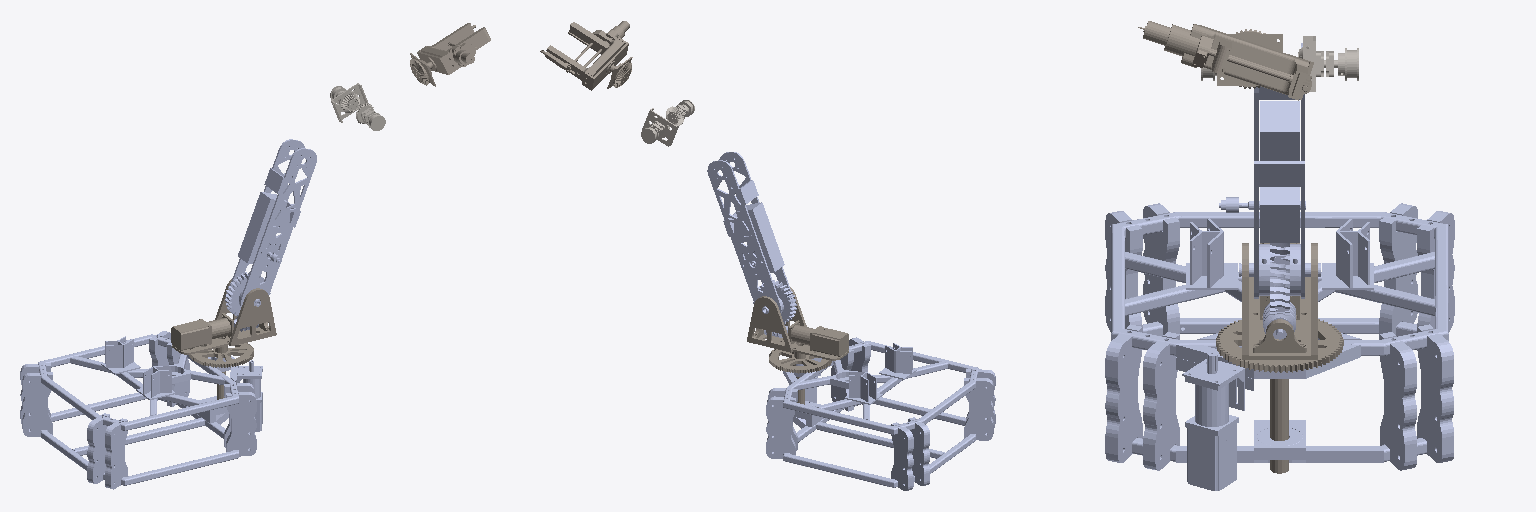
URDF robot description (ARMYPR6):
<?xml version="1.0" encoding="utf-8"?>
<!-- This URDF was automatically created by SolidWorks to URDF Exporter! Originally created by [author] ([email redacted]) 
     Commit Version: 1.6.0-4-g7f85cfe  Build Version: 1.6.7995.38578
     For more information, please see http://wiki.ros.org/sw_urdf_exporter -->
<robot
  name="ARMYPR6">
  <link
    name="base_link">
    <inertial>
      <origin
        xyz="0.0381708341809766 -0.00140666618573904 0.106286010737939"
        rpy="0 0 0" />
      <mass
        value="3.44766136170682" />
      <inertia
        ixx="0.013723684919501"
        ixy="-0.000589844407732805"
        ixz="-0.000265795178525529"
        iyy="0.0120078200354364"
        iyz="-0.00170526761308872"
        izz="0.0109946645922308" />
    </inertial>
    <visual>
      <origin
        xyz="0 0 0"
        rpy="0 0 0" />
      <geometry>
        <mesh
          filename="package://meshes/base_link.STL" />
      </geometry>
      <material
        name="">
        <color
          rgba="0.792156862745098 0.819607843137255 0.933333333333333 1" />
      </material>
    </visual>
    <collision>
      <origin
        xyz="0 0 0"
        rpy="0 0 0" />
      <geometry>
        <mesh
          filename="package://meshes/base_link.STL" />
      </geometry>
    </collision>
  </link>
  <link
    name="turntable">
    <inertial>
      <origin
        xyz="-0.00267730480039297 -0.00258676298943122 0.0234823964354525"
        rpy="0 0 0" />
      <mass
        value="2.3506402744061" />
      <inertia
        ixx="0.00437347444848986"
        ixy="-1.2640423499503E-08"
        ixz="-4.51937995301733E-05"
        iyy="0.00666578057039286"
        iyz="-6.87805063673265E-09"
        izz="0.00912722709891156" />
    </inertial>
    <visual>
      <origin
        xyz="0 0 0"
        rpy="0 0 0" />
      <geometry>
        <mesh
          filename="package://meshes/turntable.STL" />
      </geometry>
      <material
        name="">
        <color
          rgba="0.650980392156863 0.619607843137255 0.588235294117647 1" />
      </material>
    </visual>
    <collision>
      <origin
        xyz="0 0 0"
        rpy="0 0 0" />
      <geometry>
        <mesh
          filename="package://meshes/turntable.STL" />
      </geometry>
    </collision>
  </link>
  <joint
    name="turntablejoint"
    type="revolute">
    <origin
      xyz="0.26945 0 0.216"
      rpy="0 0 0" />
    <parent
      link="base_link" />
    <child
      link="turntable" />
    <axis
      xyz="0 0 -1" />
    <limit
      lower="-2"
      upper="2"
      effort="0"
      velocity="0" />
  </joint>
  <link
    name="link1">
    <inertial>
      <origin
        xyz="0.052129499090007 -0.00165361926087013 0.139664312313907"
        rpy="0 0 0" />
      <mass
        value="2.86881846288643" />
      <inertia
        ixx="0.0233096019749734"
        ixy="6.2489688091546E-07"
        ixz="-0.00824350432962109"
        iyy="0.027636645913229"
        iyz="4.79039522240276E-08"
        izz="0.00556962147507105" />
    </inertial>
    <visual>
      <origin
        xyz="0 0 0"
        rpy="0 0 0" />
      <geometry>
        <mesh
          filename="package://meshes/link1.STL" />
      </geometry>
      <material
        name="">
        <color
          rgba="0.792156862745098 0.819607843137255 0.933333333333333 1" />
      </material>
    </visual>
    <collision>
      <origin
        xyz="0 0 0"
        rpy="0 0 0" />
      <geometry>
        <mesh
          filename="package://meshes/link1.STL" />
      </geometry>
    </collision>
  </link>
  <joint
    name="joint1"
    type="revolute">
    <origin
      xyz="0.08505 0 0.15172"
      rpy="0 0 0" />
    <parent
      link="turntable" />
    <child
      link="link1" />
    <axis
      xyz="0 -1 0" />
    <limit
      lower="-2"
      upper="2"
      effort="0"
      velocity="0" />
  </joint>
  <link
    name="link2">
    <inertial>
      <origin
        xyz="0.0467437101668375 -0.00656844946709717 0.0263225251722374"
        rpy="0 0 0" />
      <mass
        value="1.4157165117551" />
      <inertia
        ixx="0.00110534289728777"
        ixy="1.09570322763697E-07"
        ixz="-0.000442330019281762"
        iyy="0.00215335440039908"
        iyz="7.26419563315174E-08"
        izz="0.00170993349276108" />
    </inertial>
    <visual>
      <origin
        xyz="0 0 0"
        rpy="0 0 0" />
      <geometry>
        <mesh
          filename="package://meshes/link2.STL" />
      </geometry>
      <material
        name="">
        <color
          rgba="0.796078431372549 0.823529411764706 0.937254901960784 1" />
      </material>
    </visual>
    <collision>
      <origin
        xyz="0 0 0"
        rpy="0 0 0" />
      <geometry>
        <mesh
          filename="package://meshes/link2.STL" />
      </geometry>
    </collision>
  </link>
  <joint
    name="joint2"
    type="revolute">
    <origin
      xyz="0.16161 -0.0165 0.39308"
      rpy="0 0 0" />
    <parent
      link="link1" />
    <child
      link="link2" />
    <axis
      xyz="0 -1 0" />
    <limit
      lower="-2"
      upper="2"
      effort="0"
      velocity="0" />
  </joint>
  <link
    name="pitch">
    <inertial>
      <origin
        xyz="0.0462550131939434 -0.00508561185348336 0.0244700814503312"
        rpy="0 0 0" />
      <mass
        value="0.424370516791685" />
      <inertia
        ixx="0.000117194373237424"
        ixy="6.92723147131335E-08"
        ixz="-1.8695760875076E-05"
        iyy="0.000109416182432902"
        iyz="2.19434071485635E-08"
        izz="0.000142961084720061" />
    </inertial>
    <visual>
      <origin
        xyz="0 0 0"
        rpy="0 0 0" />
      <geometry>
        <mesh
          filename="package://meshes/pitch.STL" />
      </geometry>
      <material
        name="">
        <color
          rgba="0.776470588235294 0.756862745098039 0.737254901960784 1" />
      </material>
    </visual>
    <collision>
      <origin
        xyz="0 0 0"
        rpy="0 0 0" />
      <geometry>
        <mesh
          filename="package://meshes/pitch.STL" />
      </geometry>
    </collision>
  </link>
  <joint
    name="pitchJoint"
    type="revolute">
    <origin
      xyz="0.19676 0.016444 0.10409"
      rpy="0 0 0" />
    <parent
      link="link2" />
    <child
      link="pitch" />
    <axis
      xyz="0 1 0" />
    <limit
      lower="-2"
      upper="2"
      effort="0"
      velocity="0" />
  </joint>
  <link
    name="yaw">
    <inertial>
      <origin
        xyz="0.0447240740582902 -0.00910187074205612 0.0179740828266273"
        rpy="0 0 0" />
      <mass
        value="0.416375076239649" />
      <inertia
        ixx="0.000137581552998124"
        ixy="2.0020276327758E-07"
        ixz="1.84727717808806E-05"
        iyy="0.000122119326134642"
        iyz="-9.89478322727336E-08"
        izz="0.00011246641748972" />
    </inertial>
    <visual>
      <origin
        xyz="0 0 0"
        rpy="0 0 0" />
      <geometry>
        <mesh
          filename="package://meshes/yaw.STL" />
      </geometry>
      <material
        name="">
        <color
          rgba="0.898039215686275 0.917647058823529 0.929411764705882 1" />
      </material>
    </visual>
    <collision>
      <origin
        xyz="0 0 0"
        rpy="0 0 0" />
      <geometry>
        <mesh
          filename="package://meshes/yaw.STL" />
      </geometry>
    </collision>
  </link>
  <joint
    name="yawjoint"
    type="revolute">
    <origin
      xyz="0.095579 -0.00064427 0.0505"
      rpy="0 0 0" />
    <parent
      link="pitch" />
    <child
      link="yaw" />
    <axis
      xyz="-0.46762 0 0.88393" />
    <limit
      lower="-2"
      upper="2"
      effort="0"
      velocity="0" />
  </joint>
  <link
    name="roll">
    <inertial>
      <origin
        xyz="0.0783795845305626 -0.0145129245859908 0.0413814652187382"
        rpy="0 0 0" />
      <mass
        value="0.695670819953184" />
      <inertia
        ixx="0.000792357459929206"
        ixy="-4.95718699175563E-05"
        ixz="-0.000184554624849212"
        iyy="0.000694117662937758"
        iyz="-2.63310013045663E-05"
        izz="0.00104238963794675" />
    </inertial>
    <visual>
      <origin
        xyz="0 0 0"
        rpy="0 0 0" />
      <geometry>
        <mesh
          filename="package://meshes/roll.STL" />
      </geometry>
      <material
        name="">
        <color
          rgba="0.650980392156863 0.619607843137255 0.588235294117647 1" />
      </material>
    </visual>
    <collision>
      <origin
        xyz="0 0 0"
        rpy="0 0 0" />
      <geometry>
        <mesh
          filename="package://meshes/roll.STL" />
      </geometry>
    </collision>
  </link>
  <joint
    name="roll joint"
    type="revolute">
    <origin
      xyz="0.06953 -0.042517 0.035491"
      rpy="0 0 0" />
    <parent
      link="yaw" />
    <child
      link="roll" />
    <axis
      xyz="-0.88393 0 -0.46762" />
    <limit
      lower="-2"
      upper="2"
      effort="0"
      velocity="0" />
  </joint>
</robot>

--- Render facts (derived) ---
The picture shows the robot from 3 angles, left to right: view 1: azimuth 30°, elevation 25°; view 2: azimuth 150°, elevation 25°; view 3: azimuth 270°, elevation 25°; orthographic projection.
Robot: ARMYPR6 — 7 links, 6 joints (6 revolute); root link base_link; default pose: every joint at zero.
Links seen in each view (by area): view 1: base_link, link1, turntable, roll, pitch; view 2: base_link, link1, turntable, roll, pitch; view 3: base_link, link1, turntable, roll, pitch.
Link boxes in pixels (bbox=[...]): base_link: bbox=[20, 331, 262, 489]; link1: bbox=[225, 139, 316, 331]; turntable: bbox=[171, 279, 276, 399]; roll: bbox=[410, 23, 490, 86]; pitch: bbox=[330, 83, 385, 130]; base_link: bbox=[766, 337, 995, 490]; link1: bbox=[707, 152, 796, 337]; turntable: bbox=[747, 287, 848, 404]; roll: bbox=[540, 21, 632, 90]; pitch: bbox=[641, 100, 694, 146]; base_link: bbox=[1105, 203, 1454, 490]; link1: bbox=[1219, 43, 1320, 339]; turntable: bbox=[1216, 243, 1343, 473]; roll: bbox=[1138, 21, 1313, 100]; pitch: bbox=[1201, 36, 1358, 91].
Bounding box of the posed robot: 1.39 × 0.5075 × 1.06 m (x, y, z).
Meshes: 7 distinct files referenced, 5 mesh visuals loaded (5 binary STL); not drawn: 2 (reference not matched to a file when rendering).